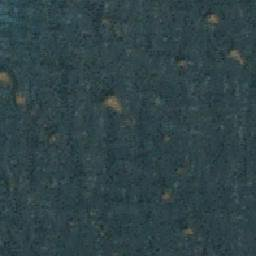debris: (1, 72, 28, 105), (101, 95, 123, 112)
